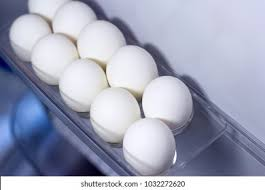eggs: (16, 11, 198, 171)
